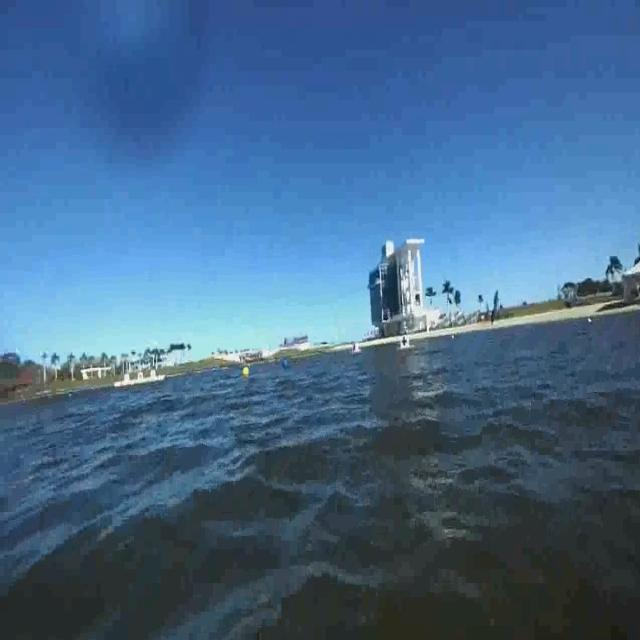blue-buoy: (282, 358, 290, 370)
yellow-buoy: (242, 364, 250, 378)
